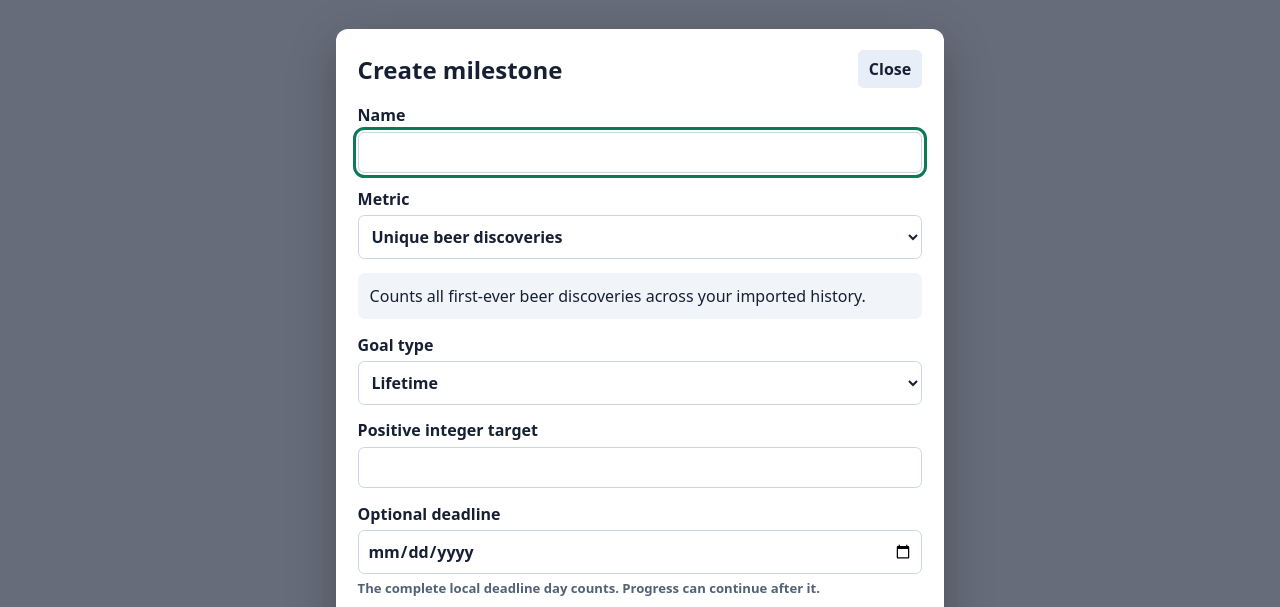
it: form blocks zero target and clears fields irrelevant to goal type
Select "Calendar year" in the dropdown labelled "Goal type" at (640, 383), box left=358, top=361, right=922, bottom=405
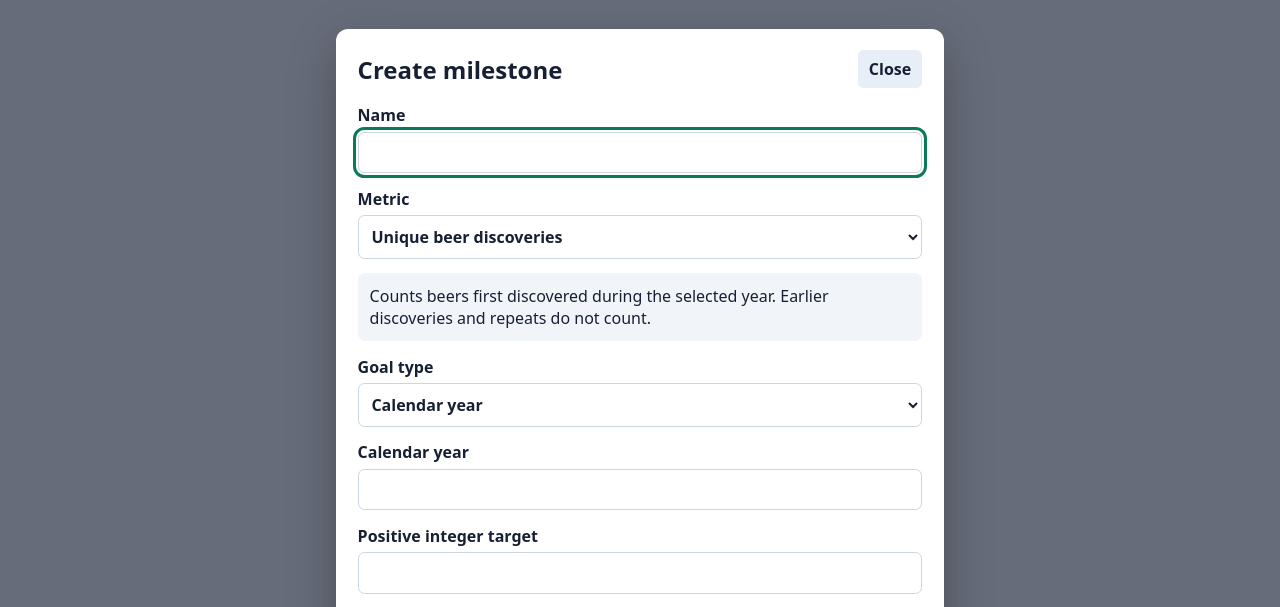
Type "2027" into the number field labelled "Calendar year" at (640, 490), box left=358, top=469, right=922, bottom=510
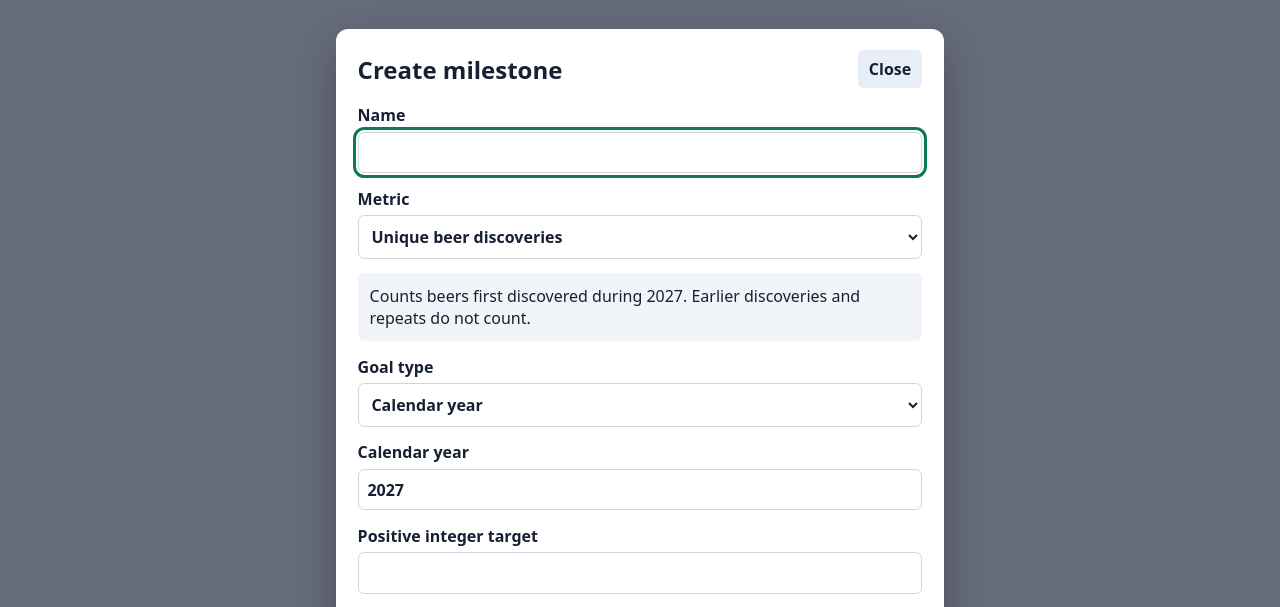
Select "From a start date" in the dropdown labelled "Goal type" at (640, 405), box left=358, top=383, right=922, bottom=427
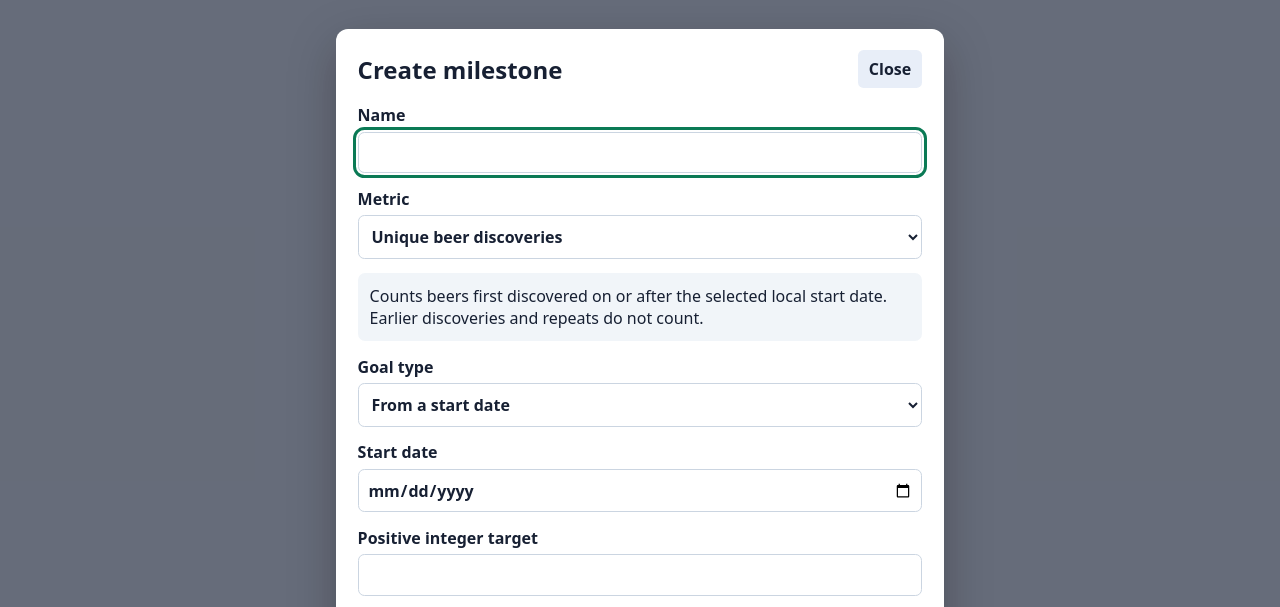
Now the label labelled "Calendar year" is gone
Type "2026-11-01" into the date field labelled "Start date" at (640, 490), box left=358, top=469, right=922, bottom=512
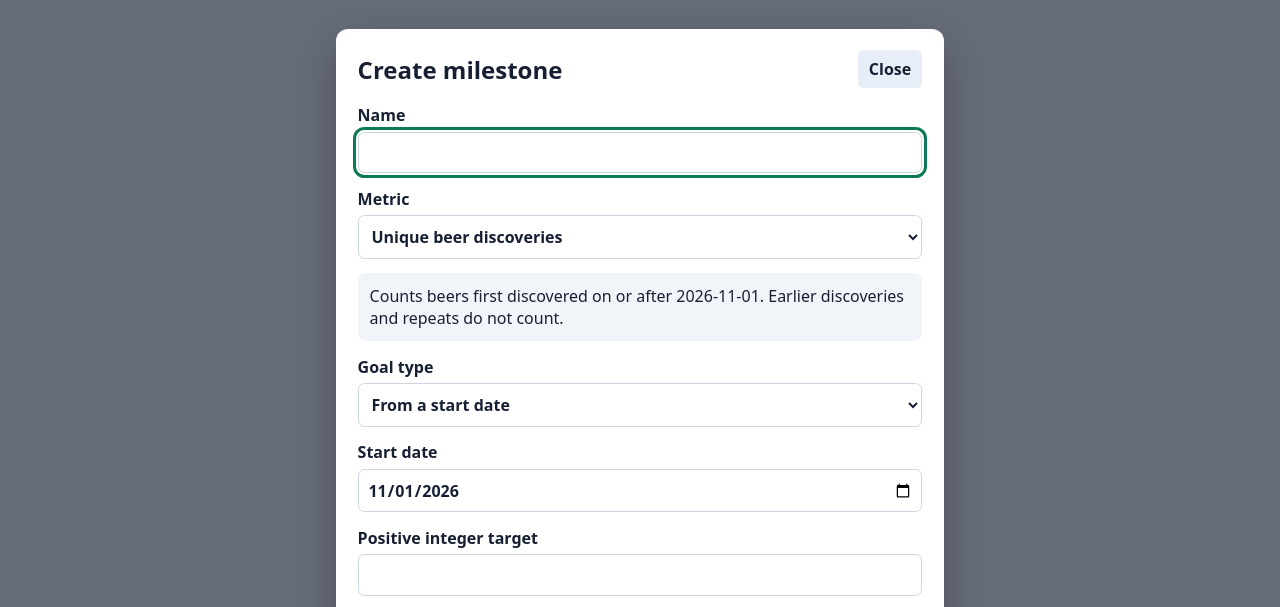
Type "0" into the number field labelled "Positive integer target" at (640, 575), box left=358, top=554, right=922, bottom=596
(page scrolled)
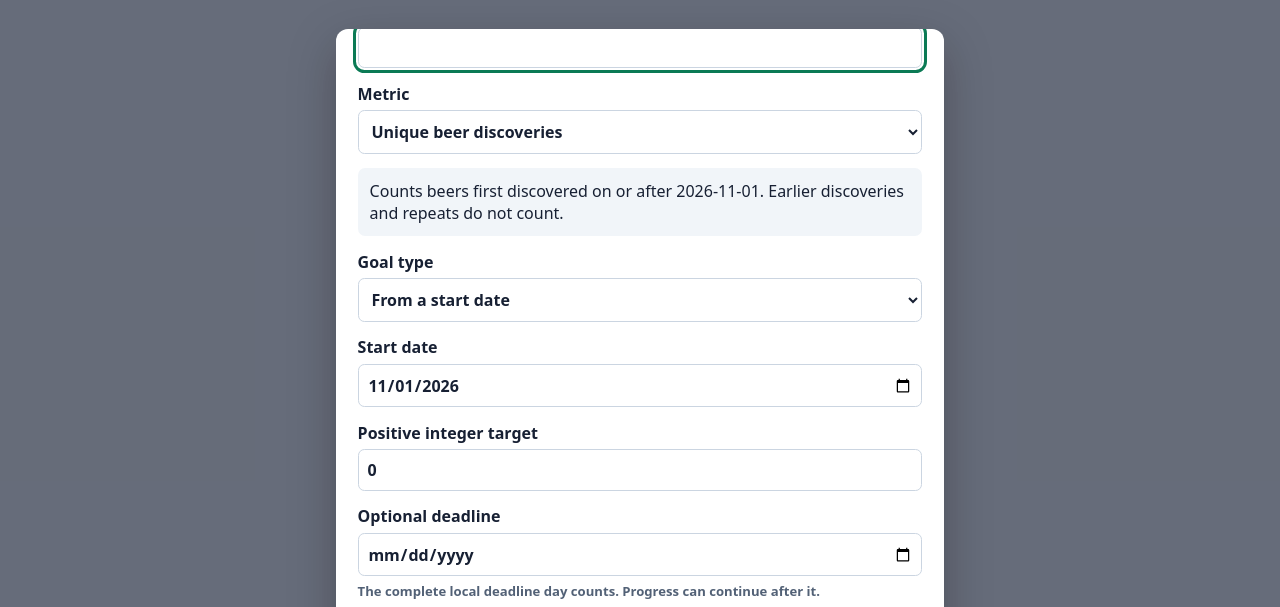
Submit the form named "Create milestone"
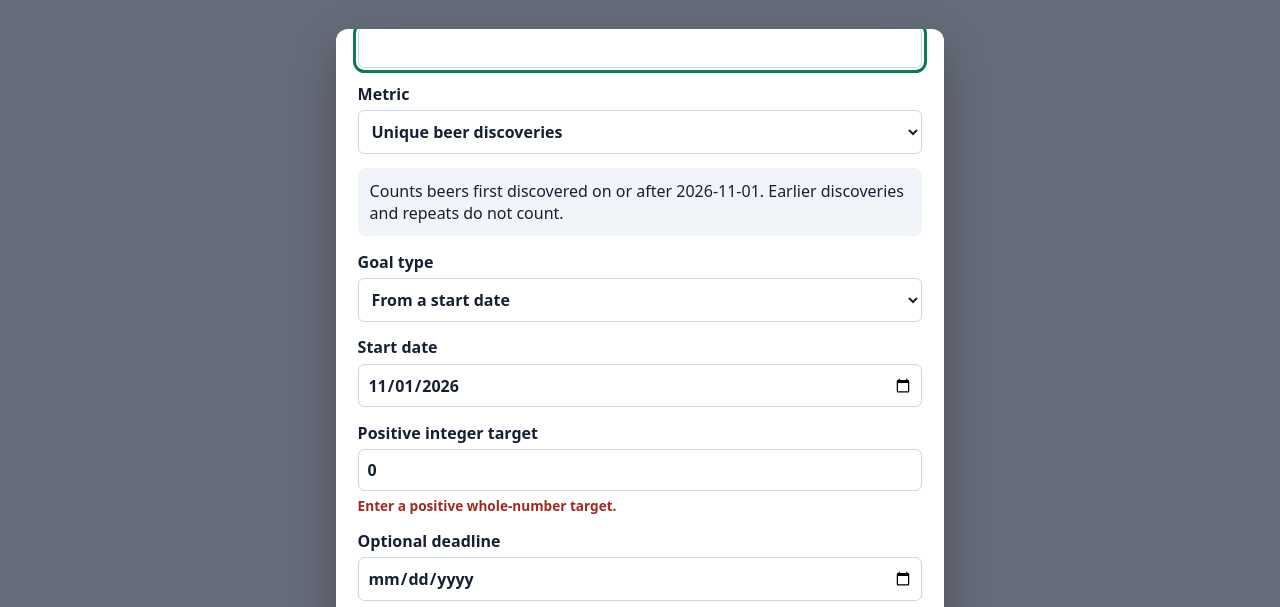
Now the text "Enter a positive whole-number target." is shown, box left=358, top=496, right=616, bottom=516
